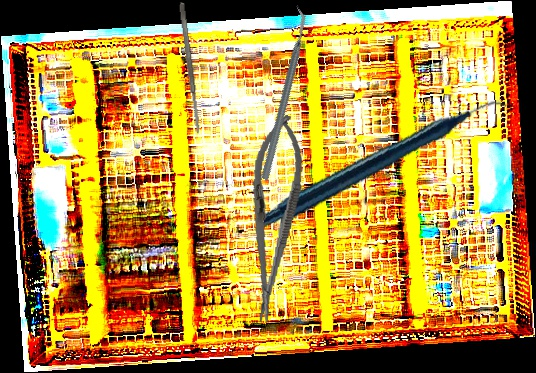Chopper: (201, 5, 364, 182)
Handpiece: (262, 65, 507, 264)
Needle Holder: (236, 112, 310, 325)
Spatula Surgical: (178, 1, 202, 136)
